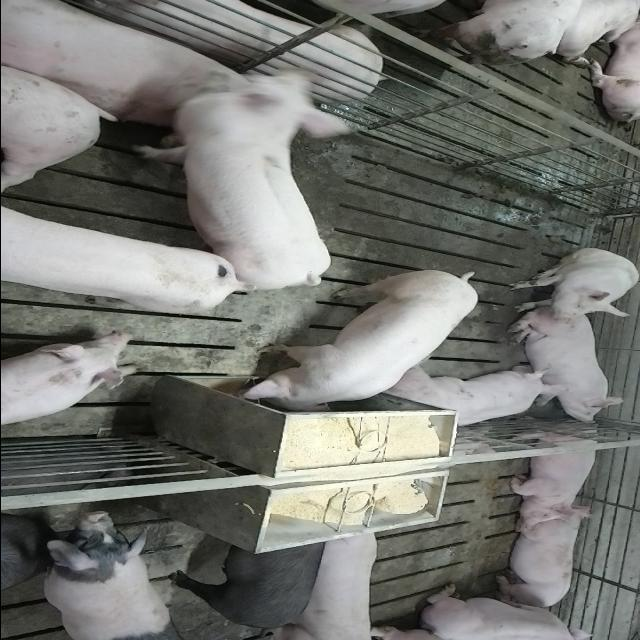Feeding: (230, 272, 480, 420)
Sitting: (502, 248, 638, 322)
Standing: (125, 64, 354, 278), (122, 152, 328, 296), (0, 212, 250, 320), (40, 510, 177, 638), (170, 534, 330, 632), (280, 524, 372, 638)
Sternal_lying: (0, 0, 255, 134), (0, 332, 139, 433), (504, 316, 630, 425), (384, 367, 562, 431), (410, 584, 604, 638), (491, 510, 589, 610), (506, 425, 604, 523)
